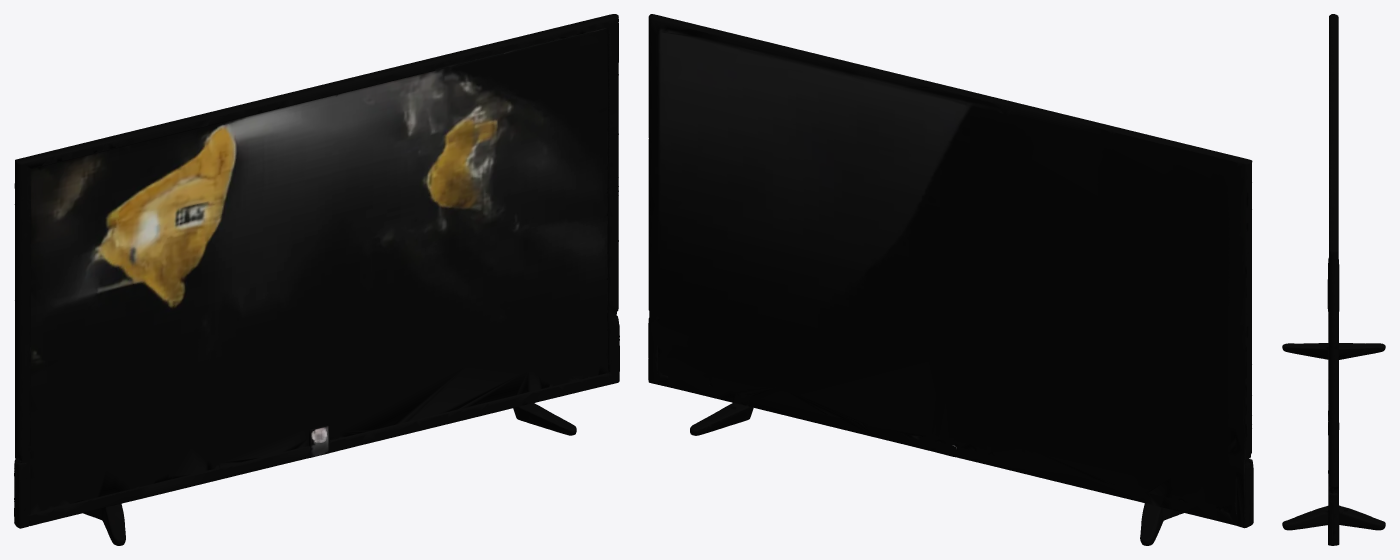
The picture shows the model from 3 angles, left to right: view 1: azimuth 30°, elevation 25°; view 2: azimuth 150°, elevation 25°; view 3: azimuth 270°, elevation 25°; orthographic projection. The views are drawn at different scales.
Parts seen in each view (by area): view 1: geometry_0; view 2: geometry_0; view 3: geometry_0.
Boxes of the visible parts, <box> form: geometry_0: <box>14,14,619,545</box>; geometry_0: <box>648,14,1253,545</box>; geometry_0: <box>1282,14,1385,545</box>.
Size of the model in its own units: 1.2 by 0.7248 by 0.2214.
Materials: 1 (1 with a texture image).
